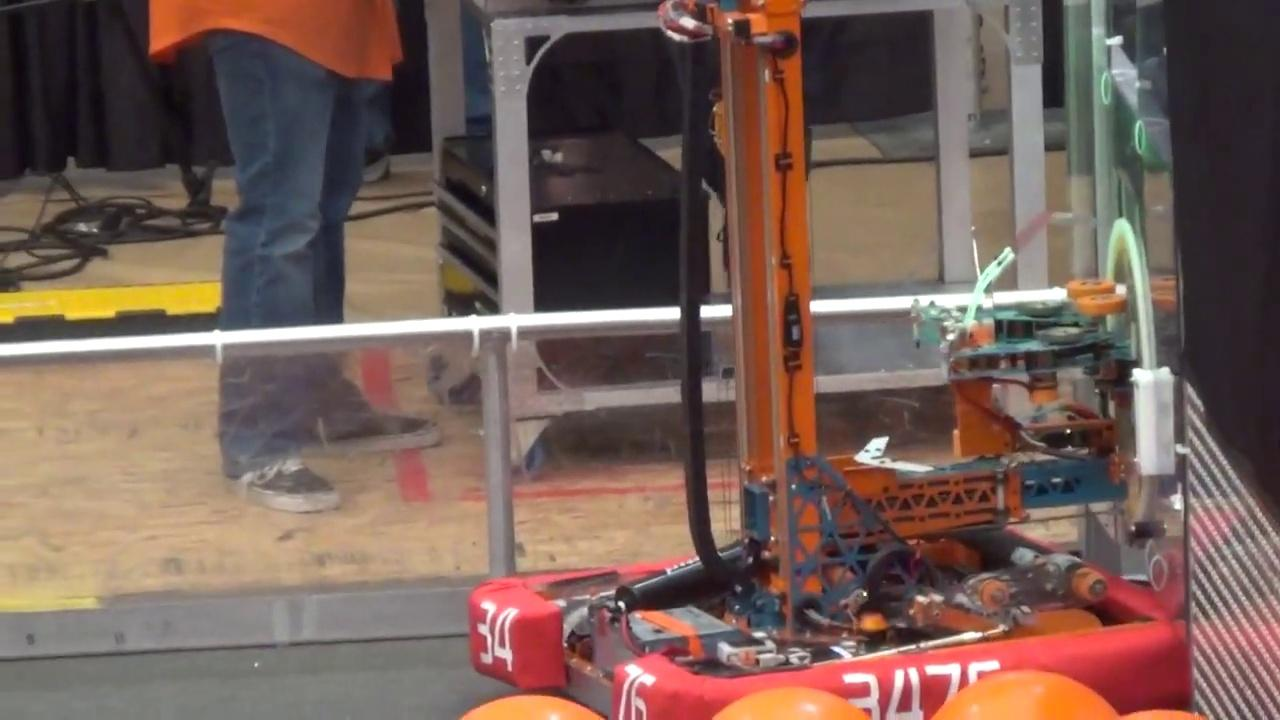robot: (461, 0, 1183, 717)
